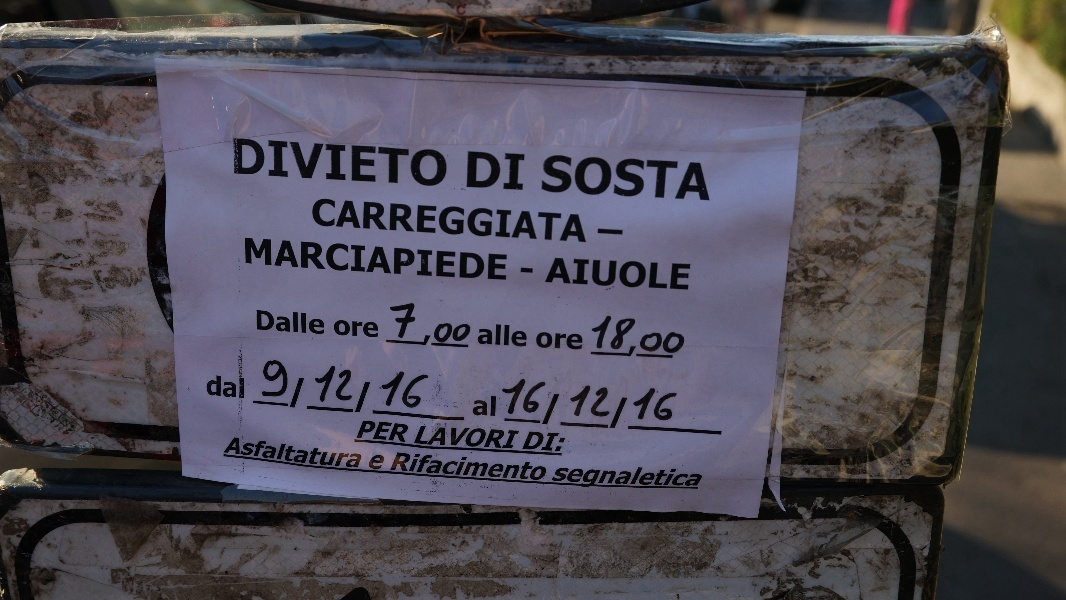text: (433, 138, 449, 187), (241, 138, 256, 187), (257, 138, 272, 187), (273, 138, 288, 187), (289, 138, 304, 187), (305, 138, 320, 187), (321, 138, 336, 187), (337, 138, 352, 187), (353, 138, 368, 187), (369, 138, 384, 187), (385, 138, 400, 187), (401, 138, 416, 187), (417, 138, 432, 187), (545, 154, 560, 201), (561, 154, 576, 201), (577, 154, 592, 201), (593, 154, 608, 201), (609, 154, 624, 201), (625, 154, 640, 201), (641, 154, 656, 201), (657, 154, 672, 201), (673, 154, 688, 201), (689, 154, 704, 201), (593, 315, 608, 360), (609, 315, 624, 360), (625, 315, 640, 360), (641, 315, 656, 360), (657, 315, 672, 360), (673, 315, 688, 360), (321, 200, 336, 245), (337, 200, 352, 245), (353, 200, 368, 245), (369, 200, 384, 245), (385, 200, 400, 245), (401, 200, 416, 245), (417, 200, 432, 245), (433, 200, 448, 245), (449, 200, 464, 245), (465, 200, 480, 245), (481, 200, 496, 245), (497, 200, 512, 245), (513, 200, 528, 245), (529, 200, 544, 245), (545, 200, 560, 245), (561, 200, 576, 245), (257, 237, 272, 282), (273, 237, 288, 282), (289, 237, 304, 282), (305, 237, 320, 282), (321, 237, 336, 282), (337, 237, 352, 282), (353, 237, 368, 282), (369, 237, 384, 282), (385, 237, 400, 282), (401, 237, 416, 282), (417, 237, 432, 282), (433, 237, 448, 282), (449, 237, 464, 282), (465, 237, 480, 282), (481, 237, 496, 282), (401, 303, 416, 347), (417, 303, 432, 347), (433, 303, 448, 347), (449, 303, 464, 347), (273, 359, 289, 398), (481, 151, 496, 191), (497, 151, 512, 191), (321, 364, 336, 403), (337, 364, 352, 403), (385, 370, 400, 409), (401, 370, 416, 409), (513, 376, 528, 415), (529, 376, 544, 415), (243, 237, 256, 282), (417, 370, 431, 409), (577, 200, 589, 245), (497, 237, 509, 282), (641, 388, 656, 422), (657, 388, 672, 422), (241, 437, 256, 471), (257, 437, 272, 471), (273, 437, 288, 471), (289, 437, 304, 471), (305, 437, 320, 471), (321, 437, 336, 471), (337, 437, 352, 471), (561, 257, 576, 290), (577, 257, 592, 290), (593, 257, 608, 290), (609, 257, 624, 290), (625, 257, 640, 290), (641, 257, 656, 290), (657, 257, 672, 290), (673, 257, 688, 290), (389, 303, 400, 347), (468, 151, 480, 191), (513, 151, 525, 191), (260, 359, 272, 398), (289, 378, 304, 409), (577, 386, 592, 417), (593, 386, 608, 417), (401, 452, 416, 482), (417, 452, 432, 482), (433, 452, 448, 482), (449, 452, 464, 482), (465, 452, 480, 482), (481, 452, 496, 482), (497, 452, 512, 482), (513, 452, 528, 482), (529, 452, 544, 482), (310, 200, 320, 245), (610, 397, 624, 429), (465, 303, 474, 347), (232, 138, 240, 187), (257, 309, 272, 335), (273, 309, 288, 335), (289, 309, 304, 335), (305, 309, 320, 335), (209, 374, 224, 399), (225, 374, 240, 399), (561, 466, 576, 491), (577, 466, 592, 491), (593, 466, 608, 491), (609, 466, 624, 491), (625, 466, 640, 491), (641, 466, 656, 491), (657, 466, 672, 491), (673, 466, 688, 491), (689, 466, 704, 491), (353, 437, 364, 471), (548, 394, 560, 425), (481, 324, 496, 348), (497, 324, 512, 348), (513, 324, 528, 348), (503, 376, 512, 415), (433, 426, 448, 449), (449, 426, 464, 449), (465, 426, 480, 449), (481, 426, 496, 449), (497, 426, 512, 449), (481, 396, 497, 417), (369, 421, 384, 443), (385, 421, 400, 443), (545, 432, 560, 452), (545, 332, 560, 351), (561, 332, 576, 351), (530, 432, 544, 452), (337, 321, 352, 338), (353, 321, 368, 338), (421, 426, 432, 449), (360, 383, 368, 413), (673, 388, 680, 422), (705, 154, 710, 201), (370, 455, 384, 470), (401, 421, 409, 443), (369, 321, 379, 338), (635, 388, 640, 422), (235, 437, 240, 471), (555, 257, 560, 290), (513, 426, 520, 449), (316, 364, 320, 403), (571, 386, 576, 417), (536, 332, 544, 351), (609, 228, 624, 238), (473, 396, 480, 417), (561, 432, 568, 452), (577, 332, 584, 351), (321, 309, 326, 335), (609, 386, 613, 417), (545, 452, 549, 482), (353, 364, 356, 403), (363, 421, 368, 443), (241, 374, 245, 399), (598, 228, 608, 238), (689, 257, 692, 290), (625, 397, 628, 429), (545, 376, 547, 415), (557, 466, 560, 491), (705, 466, 708, 491), (369, 383, 371, 413), (398, 452, 400, 482), (333, 321, 336, 338), (521, 268, 528, 275), (478, 324, 480, 348), (529, 268, 535, 275), (383, 370, 384, 409), (207, 374, 208, 399), (385, 455, 386, 470), (625, 228, 626, 238)
